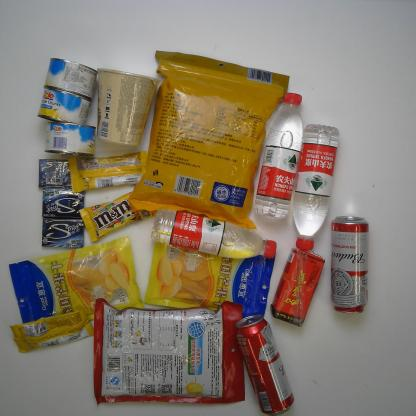Alcohol: (234, 314, 295, 416), (330, 214, 369, 314)
Canned Food: (43, 57, 98, 100), (36, 86, 95, 126), (44, 121, 97, 156)
Chocolate: (79, 190, 158, 243), (9, 306, 94, 354), (66, 149, 147, 195)
Dried Food: (127, 48, 292, 231)
Dried Fruit: (8, 236, 146, 323), (142, 238, 276, 321)
Drink: (252, 92, 305, 220), (150, 209, 278, 260), (292, 122, 340, 252), (270, 247, 326, 328)
Gum: (41, 187, 86, 219), (41, 217, 85, 249), (37, 157, 72, 190)
Instant Drink: (92, 298, 246, 406)
Instant Noodles: (95, 67, 162, 147)
